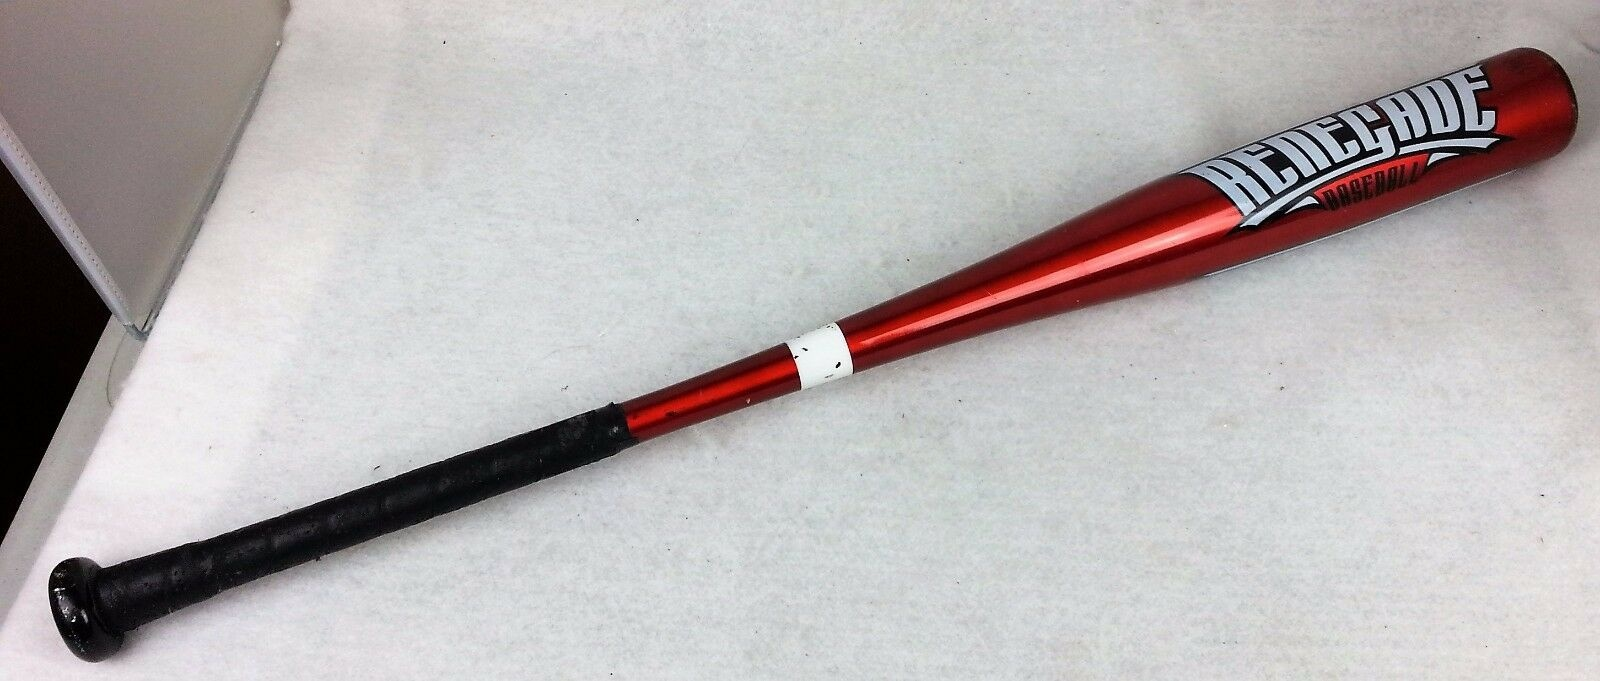bita: (52, 54, 1571, 645)
